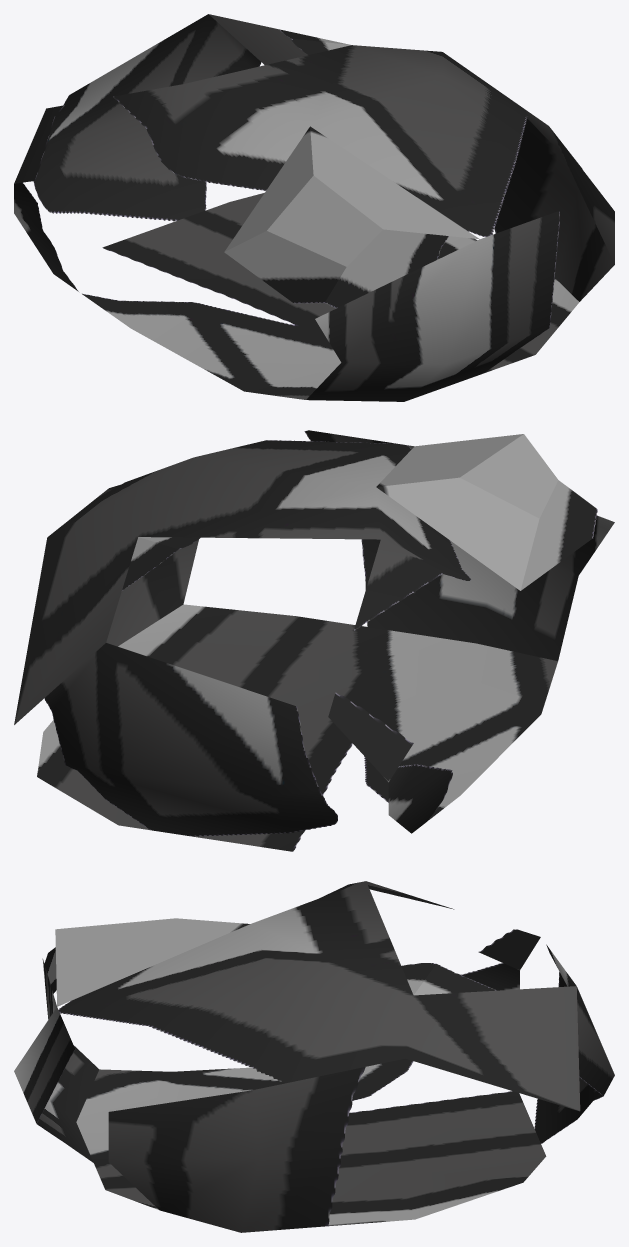
The model's file is 돌멩이.fbx.
3 renders of one model, top to bottom at view 1: azimuth 30°, elevation 25°; view 2: azimuth 150°, elevation 25°; view 3: azimuth 270°, elevation 25°, orthographic. The views are drawn at different scales.
Visible parts, largest first — view 1: Box002; view 2: Box002; view 3: Box002.
Boxes of the visible parts, x1,y1,x2,y2 form: Box002: (14,14,614,401); Box002: (14,430,614,851); Box002: (14,881,614,1232).
Size of the model in its own units: 121 by 55.57 by 144.
